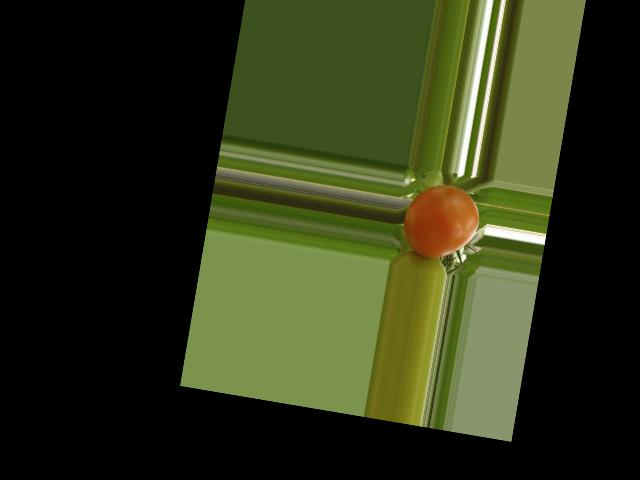tomato: (398, 179, 484, 265)
